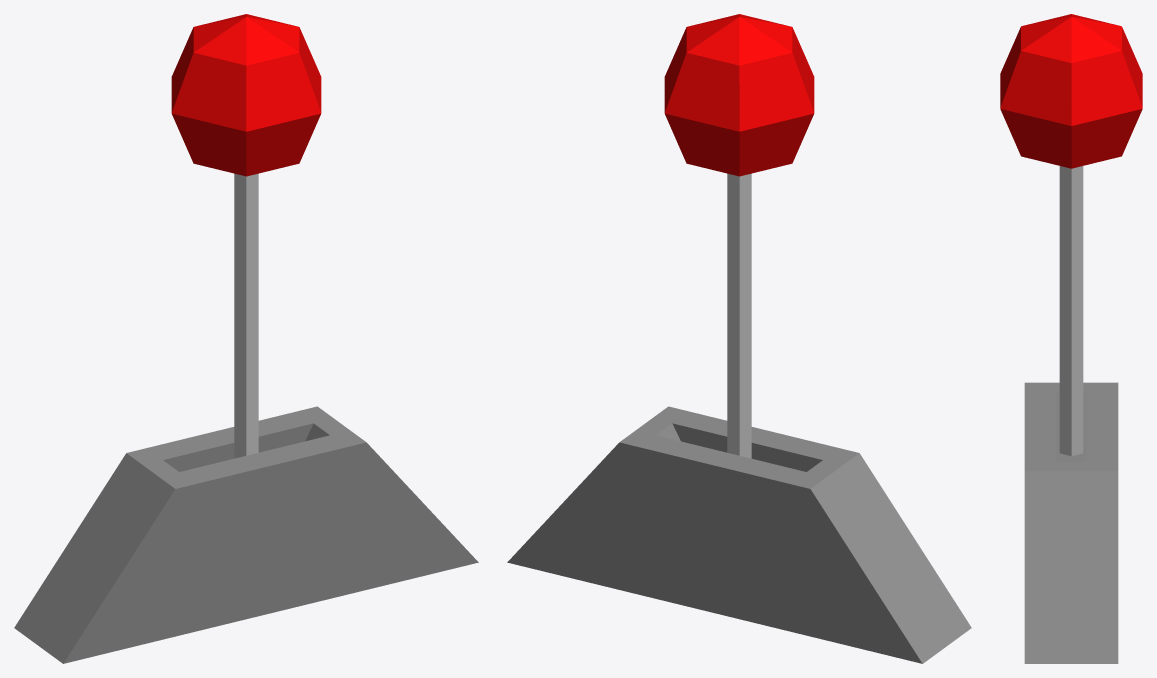
The model's file is Lever.fbx.
3 renders of one model, left to right at view 1: azimuth 30°, elevation 25°; view 2: azimuth 150°, elevation 25°; view 3: azimuth 270°, elevation 25°, orthographic. The views are drawn at different scales.
Visible parts, largest first — view 1: Lever_Base, Lever; view 2: Lever_Base, Lever; view 3: Lever, Lever_Base.
Part boxes in pixels (box(x1,y1,x2,y2)): Lever_Base: box(14, 406, 478, 663); Lever: box(171, 14, 321, 458); Lever_Base: box(507, 406, 971, 663); Lever: box(664, 14, 814, 458); Lever: box(1000, 14, 1142, 456); Lever_Base: box(1024, 382, 1118, 663).
Bounding box in the file's own units: 1.54 × 2.05 × 0.4809.
